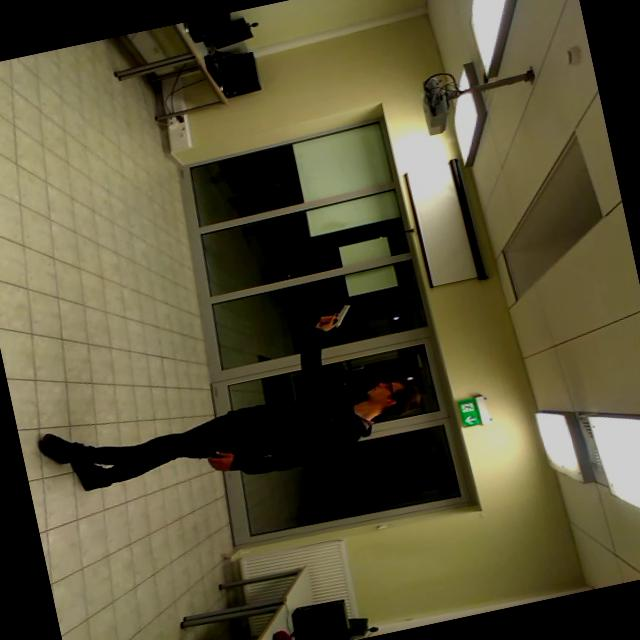handgun: (304, 294, 362, 338)
